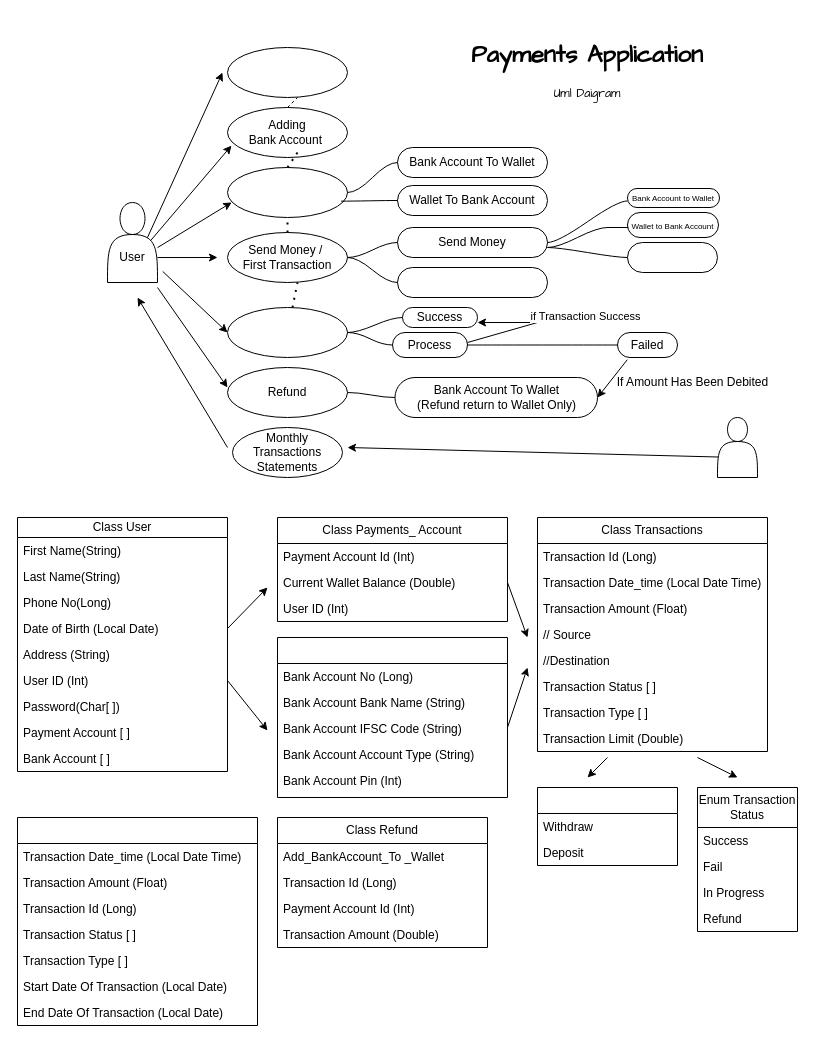
Image size: 815x1045. Some labels were removed from this diagram. Here are the shapes that lost their labels. From the top down, the box of each, then its label:
(226, 46, 348, 98): Create Account / Self Register
(226, 166, 348, 218): Adding Money to Wallet
(626, 242, 718, 272): Bank Account + wallet to Bank Account
(396, 266, 548, 298): Recieve Money
(226, 306, 348, 358): Transaction Statement
(716, 416, 758, 478): System
(276, 636, 508, 798): Class Bank_Account
(536, 786, 678, 866): Enum Transaction Type
(16, 816, 258, 1026): Class Statements
